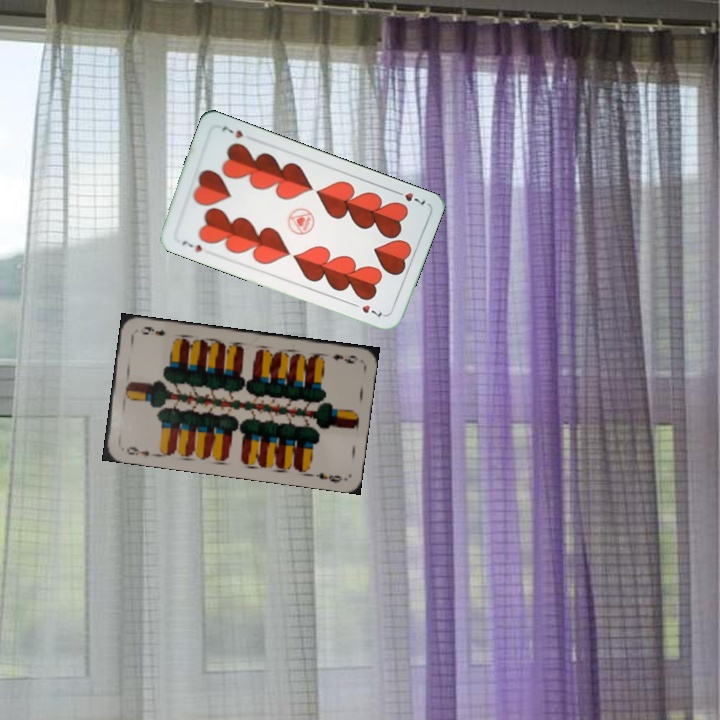E9: (122, 442, 159, 459), (329, 350, 360, 366)
H7: (390, 186, 428, 207), (178, 236, 205, 255)
